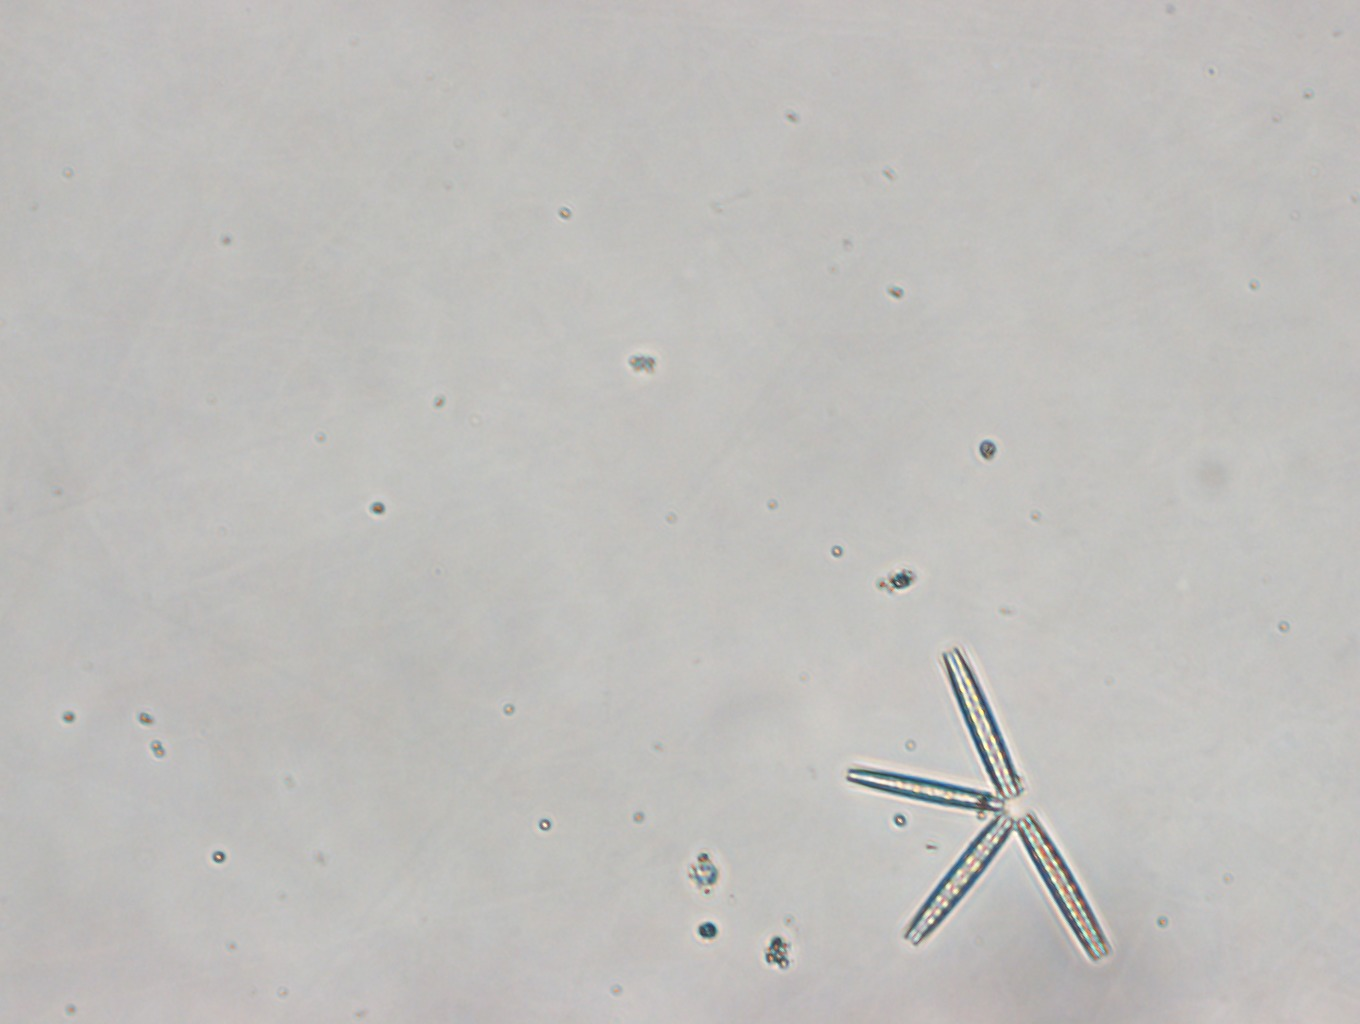thalassionema nitzschioides: (845, 646, 1113, 962)
